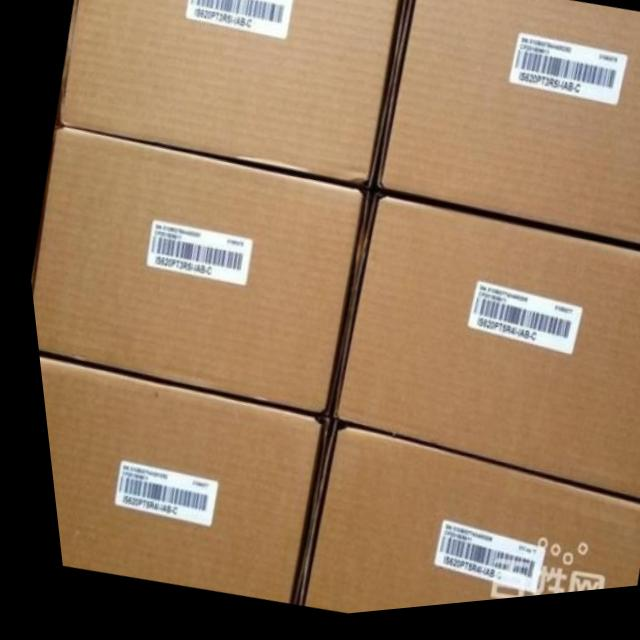box: (25, 123, 365, 423), (323, 199, 640, 514), (31, 353, 317, 605), (368, 0, 640, 262), (51, 0, 409, 199), (279, 428, 634, 618)
